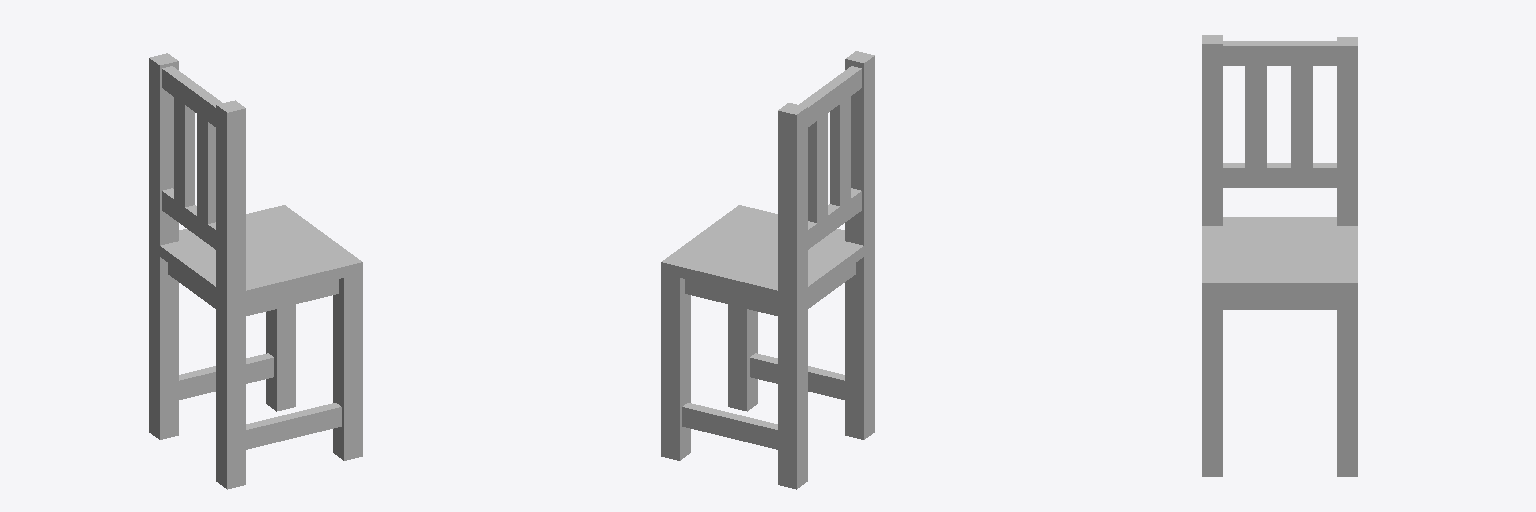
File: High Top Chair.obj
The picture shows the model from 3 angles: view 1: azimuth 30°, elevation 25°; view 2: azimuth 150°, elevation 25°; view 3: azimuth 270°, elevation 25°; orthographic projection.
Bounding box in the file's own units: 0.65 × 1.73 × 0.65.